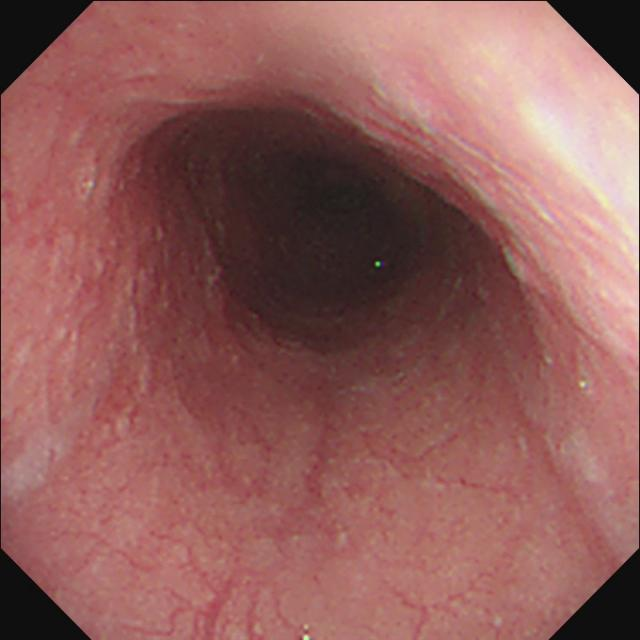E: (154, 98, 446, 356)
